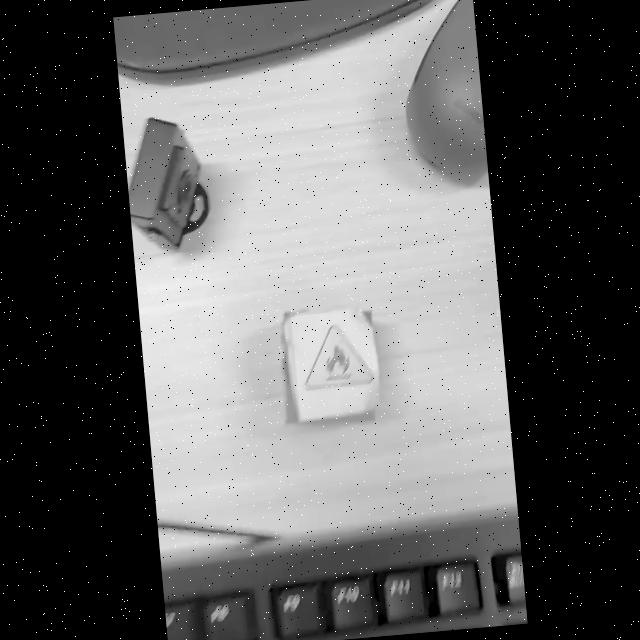Fire: (304, 325, 374, 390)
